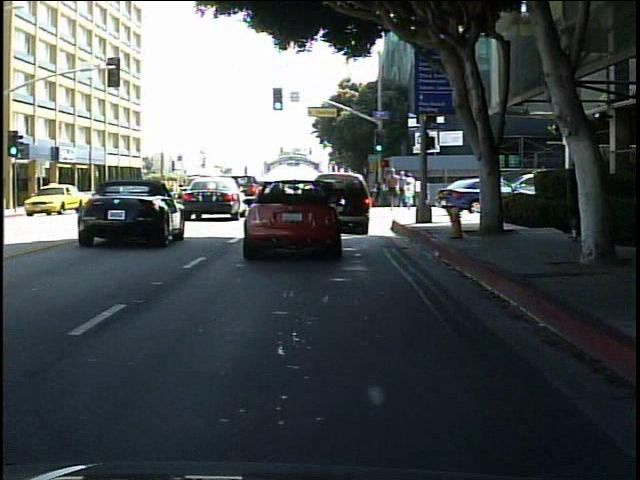person: (558, 154, 589, 245), (385, 166, 404, 213), (108, 177, 127, 206), (403, 176, 417, 209)
